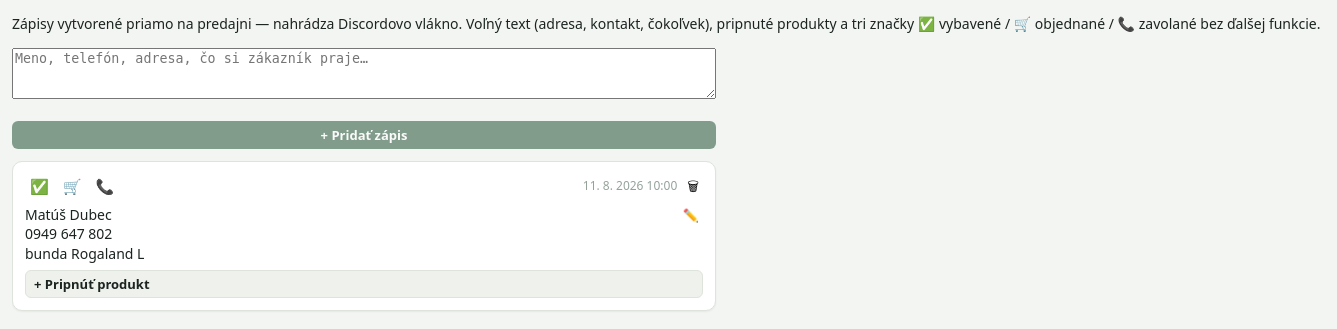
it: odstráni zápis okamžite, bez potvrdzovacieho dialógu
Expected: the element with test id "floor-note-row-note-a" is shown, x1=12 y1=161 x2=716 y2=311
Click the button with test id "floor-note-delete-note-a" at (693, 186), box x1=683 y1=176 x2=703 y2=197
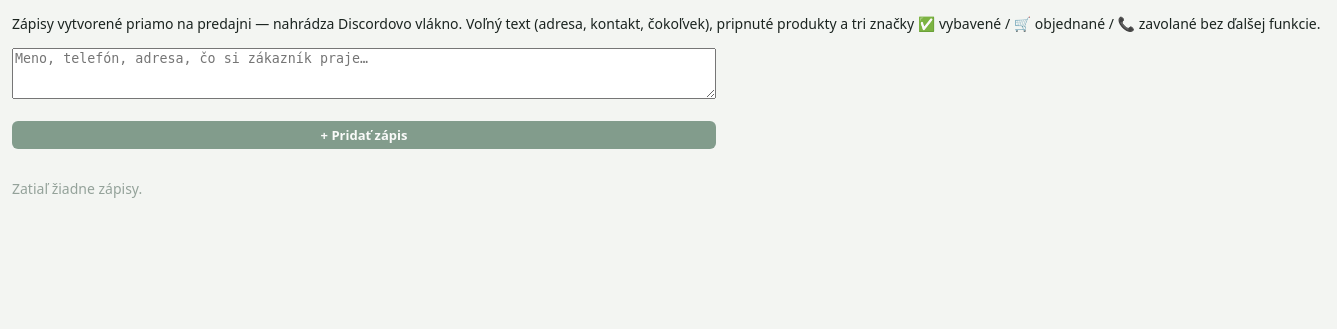
Result: the text "Zatiaľ žiadne zápisy." is shown at x1=12 y1=179 x2=142 y2=198
